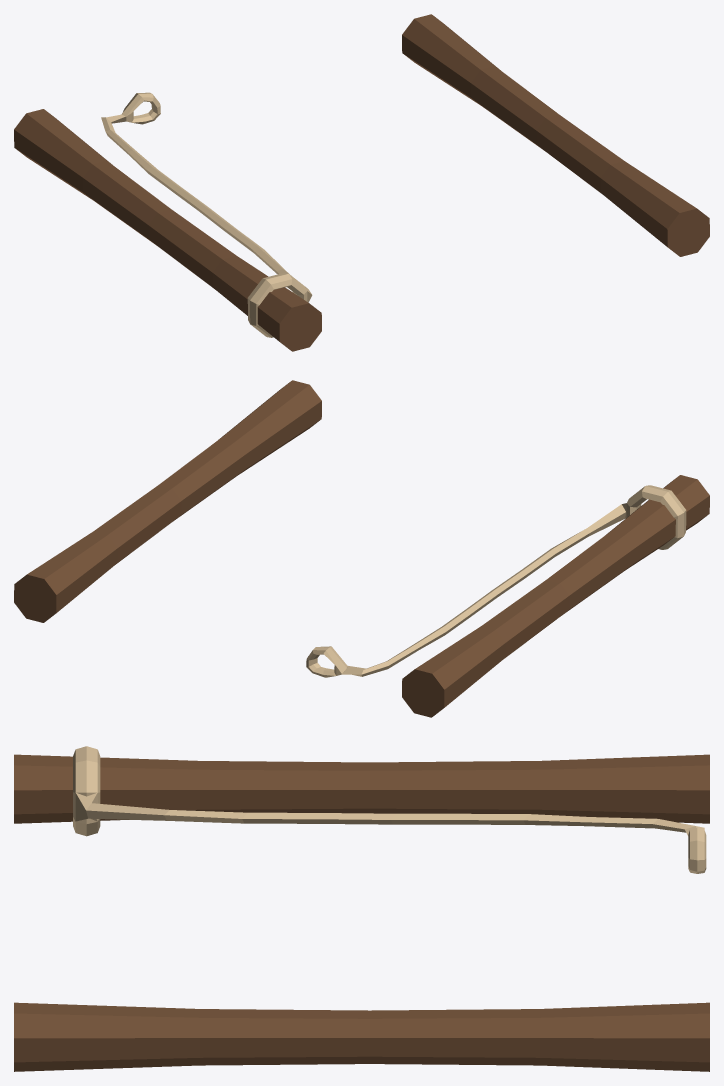
Rendered from Barrier_04_BrokenRope.fbx.
3 renders of one model, top to bottom at view 1: azimuth 30°, elevation 25°; view 2: azimuth 150°, elevation 25°; view 3: azimuth 270°, elevation 25°, orthographic. The views are drawn at different scales.
Visible parts, largest first — view 1: Barriere_4_corde cassée; view 2: Barriere_4_corde cassée; view 3: Barriere_4_corde cassée.
Part boxes in pixels (x1=…): Barriere_4_corde cassée: x1=14, y1=14, x2=709, y2=351; Barriere_4_corde cassée: x1=14, y1=380, x2=709, y2=717; Barriere_4_corde cassée: x1=14, y1=746, x2=709, y2=1071.
Bounding box in the file's own units: 93.59 × 11.98 × 99.58.
